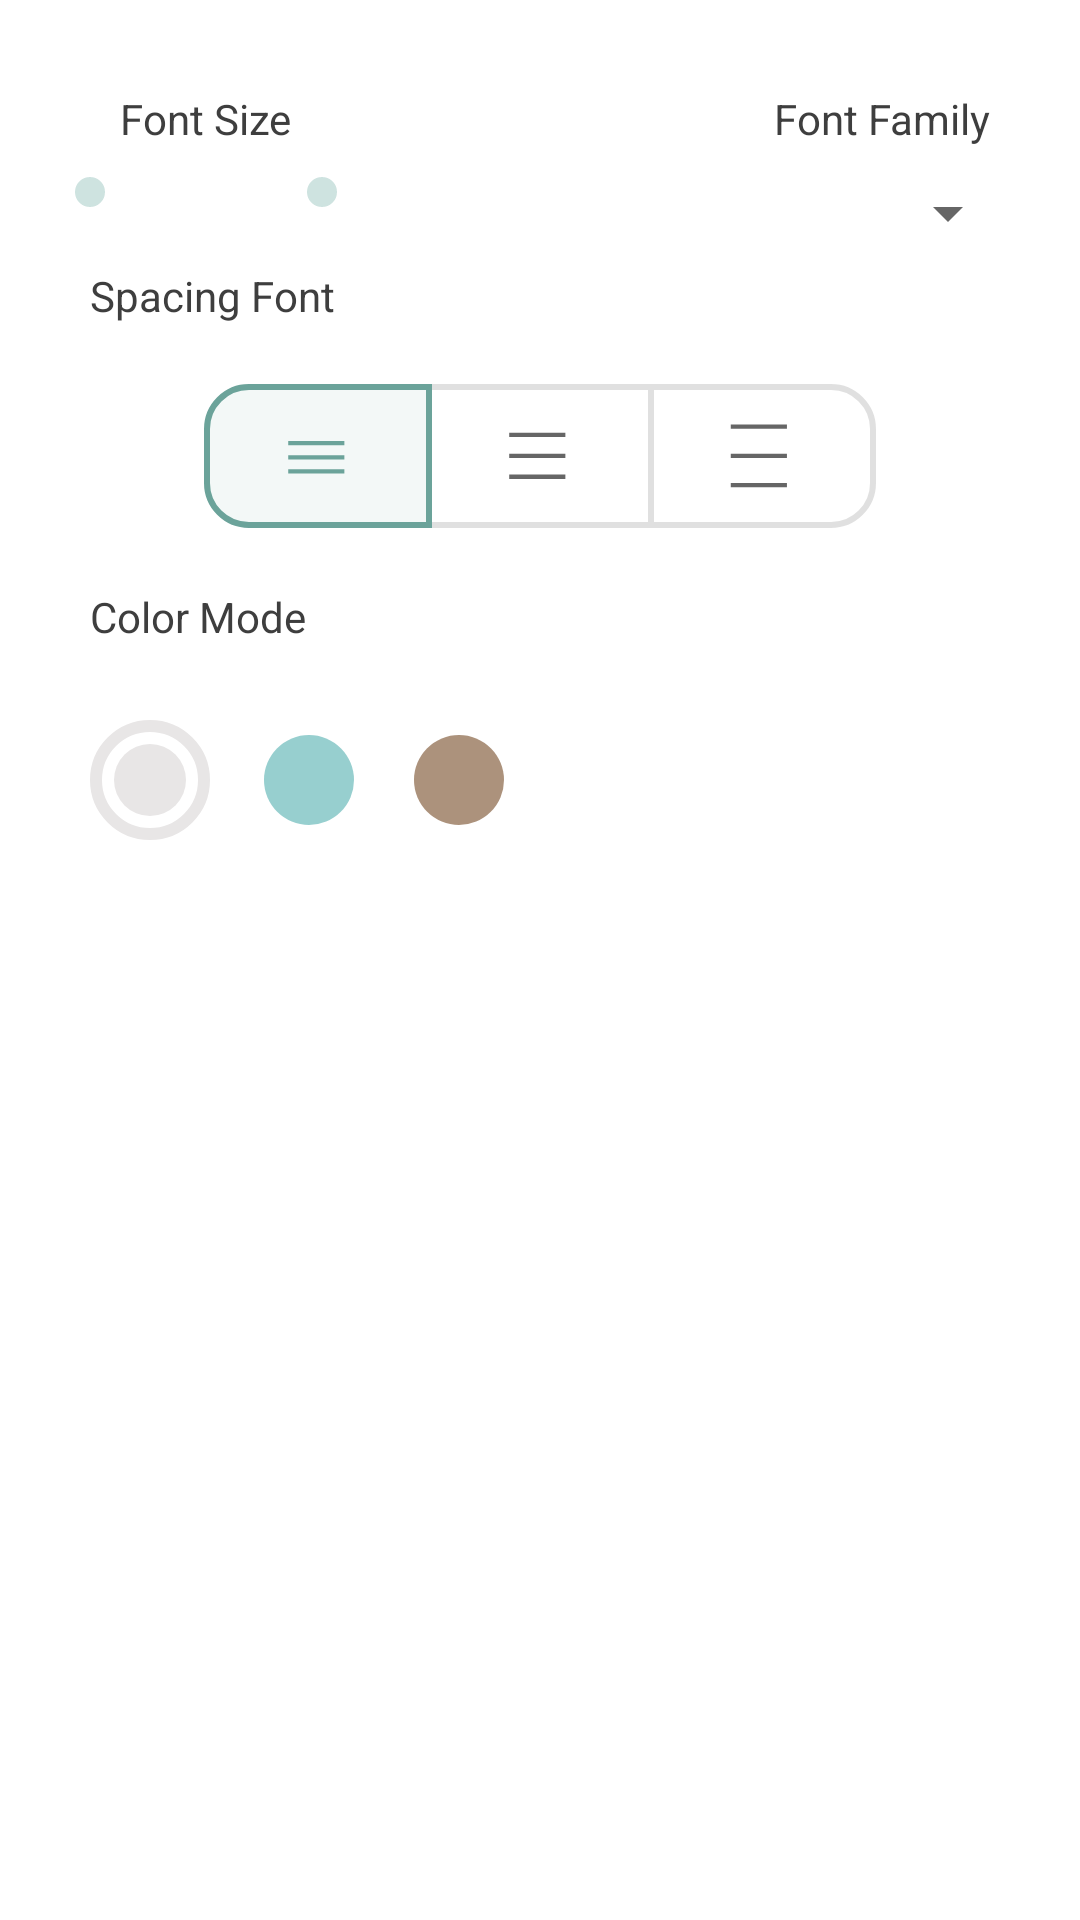

Icon click points for this 1080×1920 phone screenshot, format (x=x, y=y):
space one: (x=318, y=456)
space three: (x=762, y=456)
space two: (x=540, y=456)
